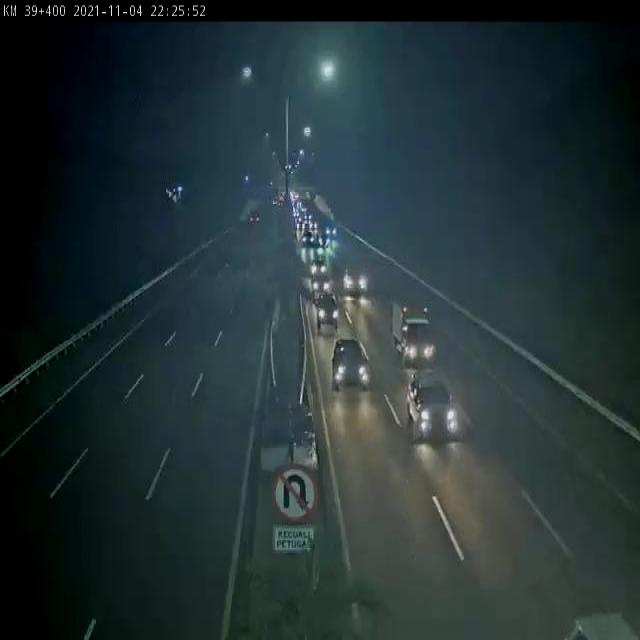Car: (407, 371, 458, 439), (331, 338, 371, 392), (312, 291, 339, 332), (342, 269, 369, 298), (309, 257, 330, 288), (311, 272, 334, 294), (247, 210, 260, 224)
Truck: (391, 302, 437, 369)
